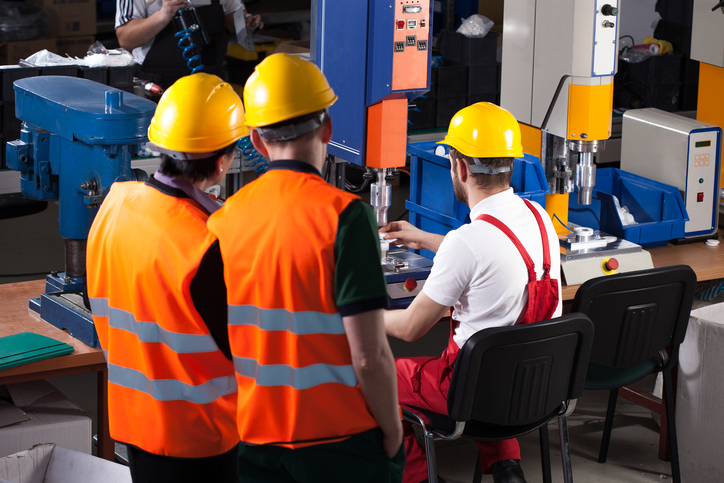Person_wearing_helmet: (234, 49, 346, 135), (142, 69, 238, 161), (425, 100, 527, 179)
